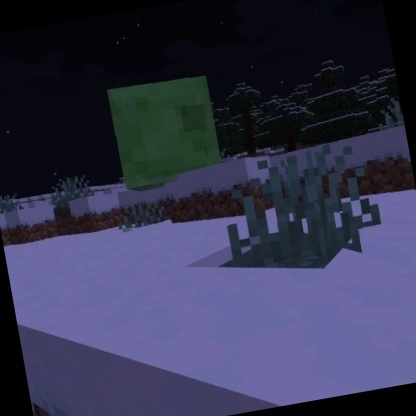slime: (99, 67, 229, 197)
